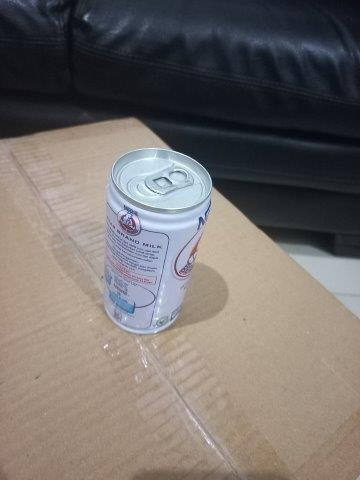kaleng: (104, 149, 213, 335)
kardus: (2, 115, 360, 480)
